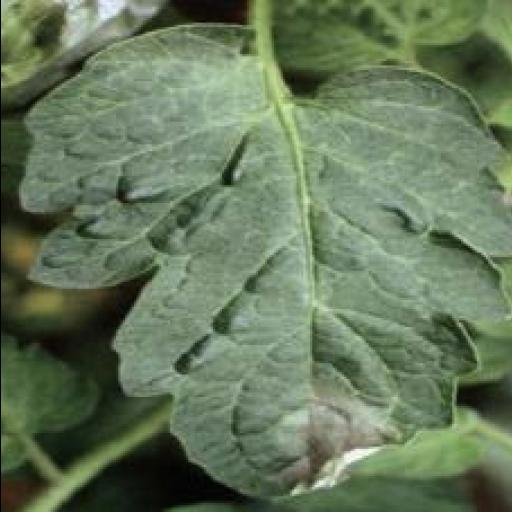Late Blight: (14, 1, 512, 505)
